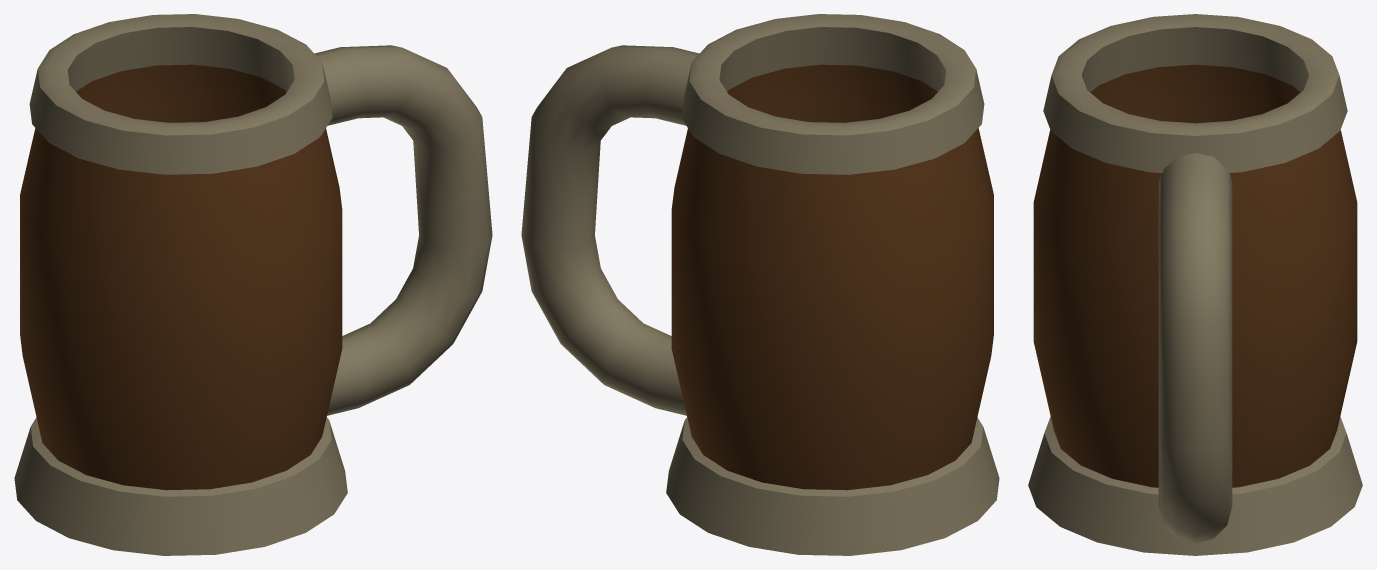
The model's file is tankard.fbx.
3 views of the same model, side by side, from view 1: azimuth 30°, elevation 25°; view 2: azimuth 150°, elevation 25°; view 3: azimuth 270°, elevation 25° (orthographic).
Visible parts, largest first — view 1: Tankard; view 2: Tankard; view 3: Tankard.
Part boxes in pixels (left/top/right/bottom): Tankard: left=14, top=14, right=492, bottom=555; Tankard: left=521, top=14, right=999, bottom=555; Tankard: left=1028, top=14, right=1362, bottom=555.
Bounding box in the file's own units: 70.49 × 45.31 × 61.84.
